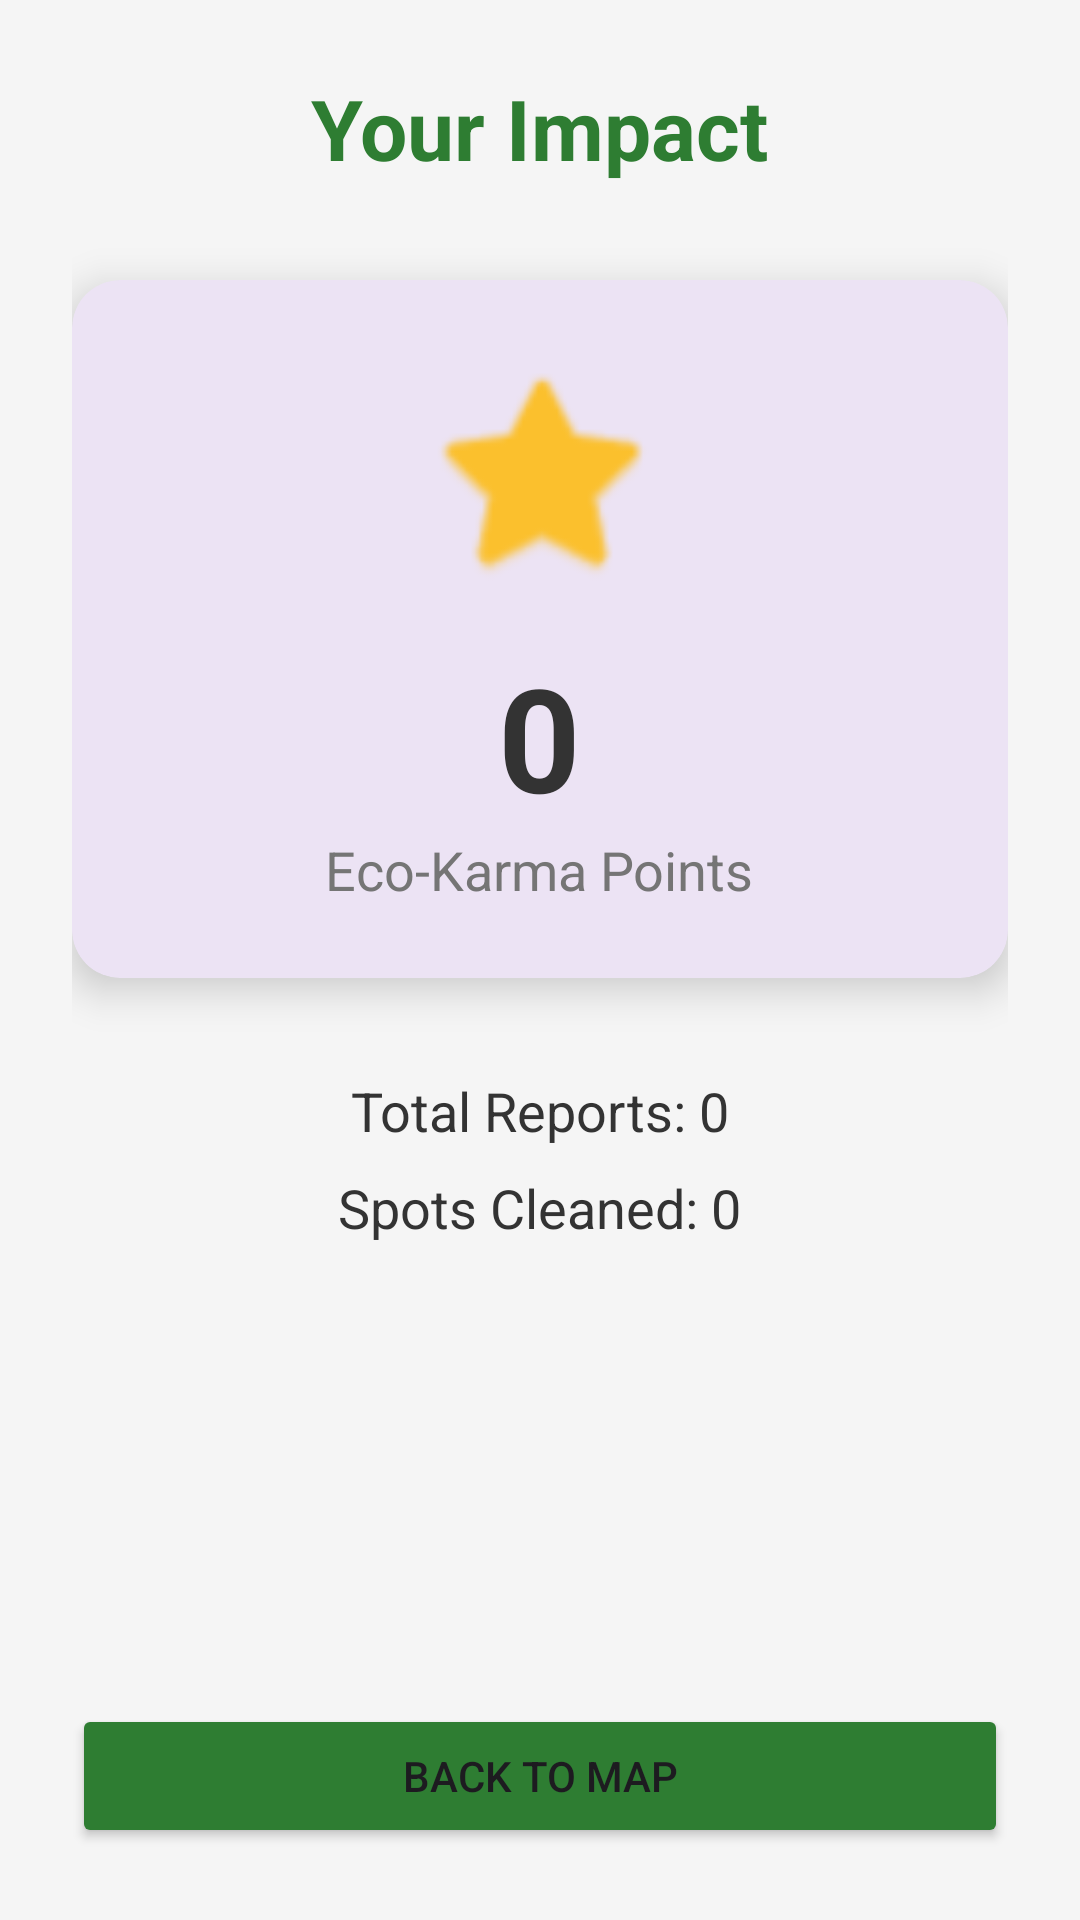

Icons on this 1080px x 1920px Android screen, each with its box as (x1, y1, x2, y2):
star on: (442, 377, 642, 571)
